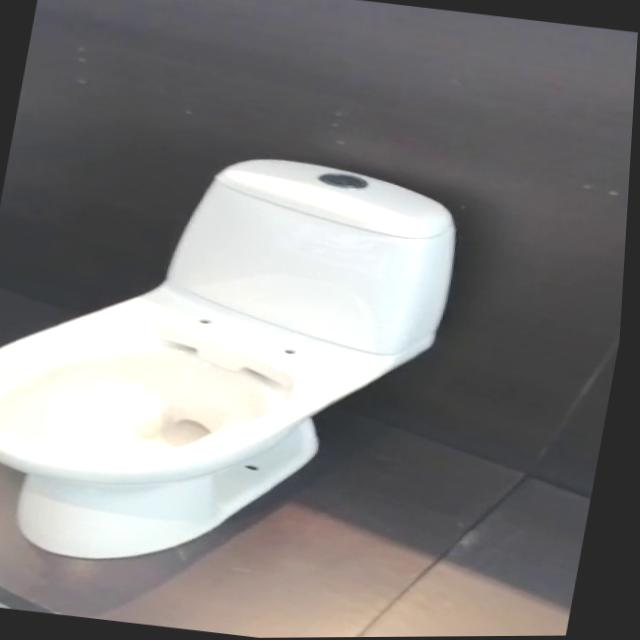toilet: (0, 124, 475, 597)
